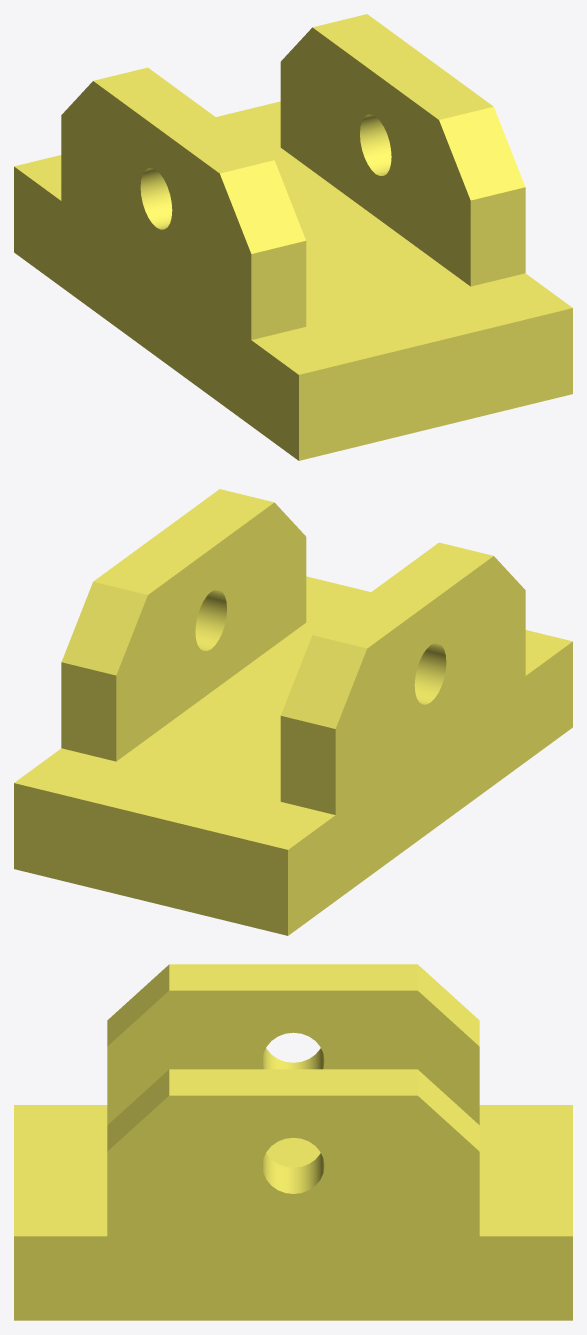
3 views of the same model, one above another, from view 1: azimuth 30°, elevation 25°; view 2: azimuth 150°, elevation 25°; view 3: azimuth 270°, elevation 25° (orthographic).
Visible parts, largest first — view 1: 946; view 2: 946; view 3: 946.
Boxes of the visible parts, x1,y1,x2,y2 form: 946: (14,14,572,460); 946: (14,489,572,935); 946: (14,964,572,1320).
Bounding box in the file's own units: 0.05 × 0.04 × 0.09.
